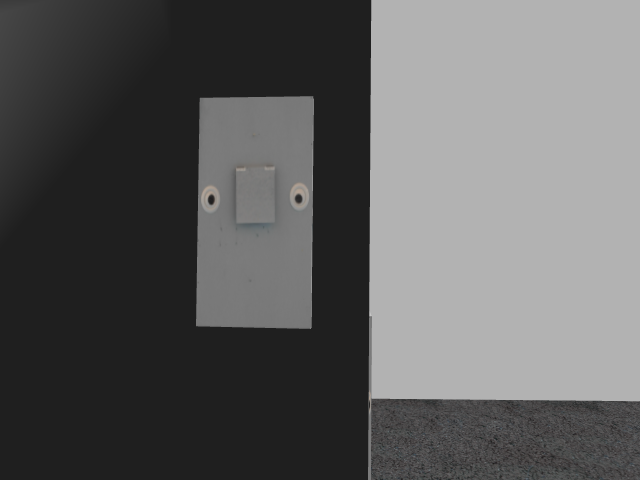facade: (201, 164, 309, 225)
